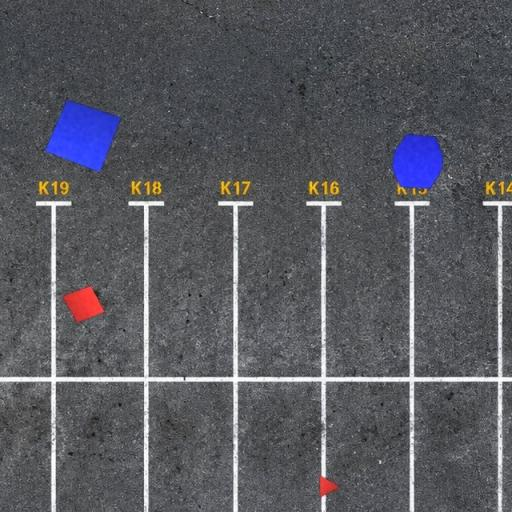BLUE_SQUARE: (44, 99, 122, 174)
RED_SQUARE: (62, 285, 106, 323)
